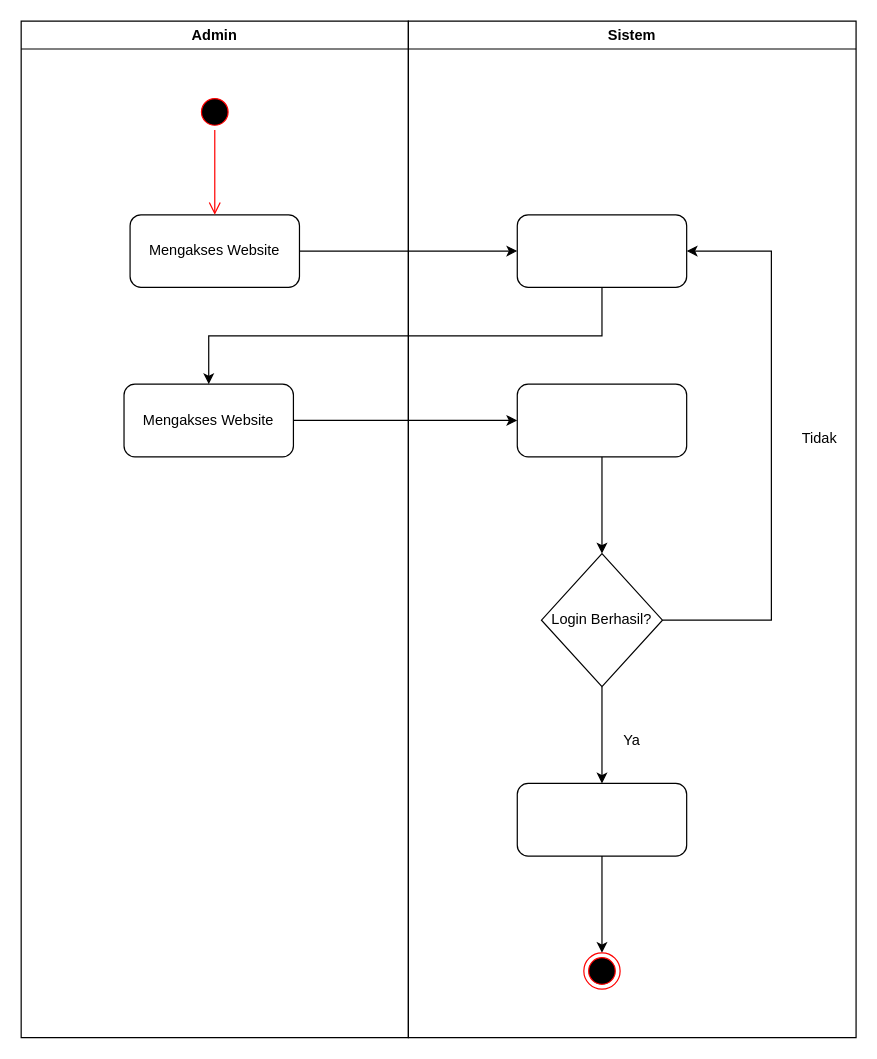
Image size: 877x1059. Some labels were removed from this diagram. The shapes that lost their labels are listed below. From the top down, each one's centre as x and y in pixels, then its label:
the point at 601,250: Menampilkan Halaman Login
the point at 601,420: Auntetikisasi
the point at 601,819: Menampilkan halaman Beranda
